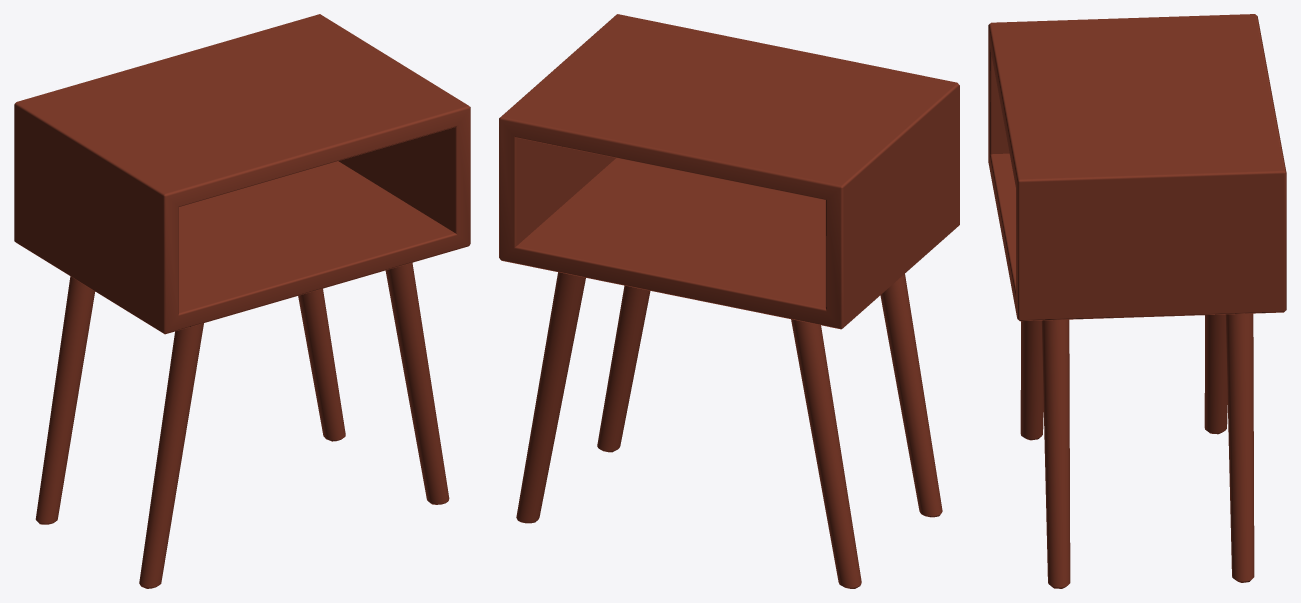
Rendered from DormAssetsTable.fbx.
3 views of the same model, side by side, from view 1: azimuth 30°, elevation 25°; view 2: azimuth 150°, elevation 25°; view 3: azimuth 270°, elevation 25° (orthographic). The views are drawn at different scales.
Parts seen in each view (by area): view 1: BedsideTable_Simple; view 2: BedsideTable_Simple; view 3: BedsideTable_Simple.
Part boxes in pixels (box(x1,y1,x2,y2)): BedsideTable_Simple: box(14, 14, 470, 588); BedsideTable_Simple: box(499, 14, 959, 588); BedsideTable_Simple: box(988, 14, 1286, 588).
Size of the model in its own units: 46.93 by 62.34 by 71.42.
